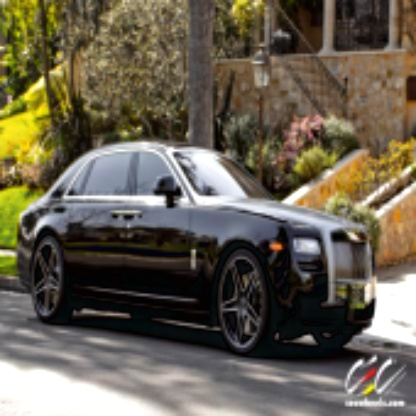Vehicle: (17, 141, 376, 358)
